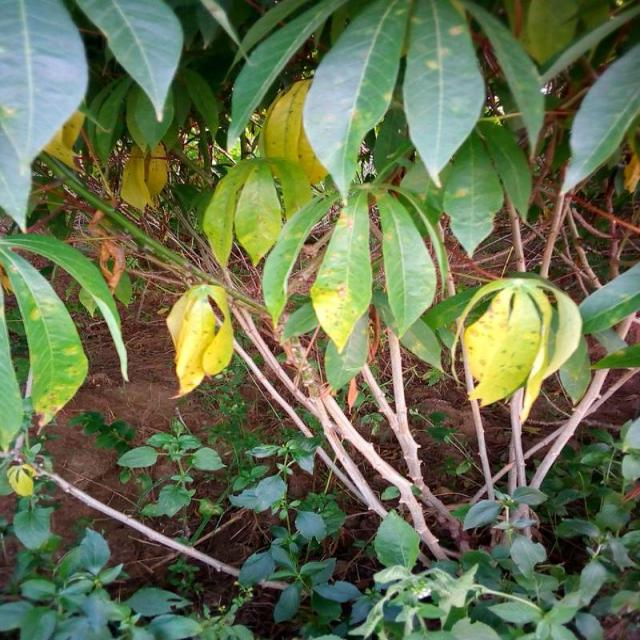cassava leaf: (302, 0, 410, 202), (0, 0, 90, 233), (458, 272, 584, 423), (1, 243, 90, 431), (402, 0, 488, 188), (560, 42, 640, 196), (311, 188, 374, 354), (167, 282, 236, 400)
